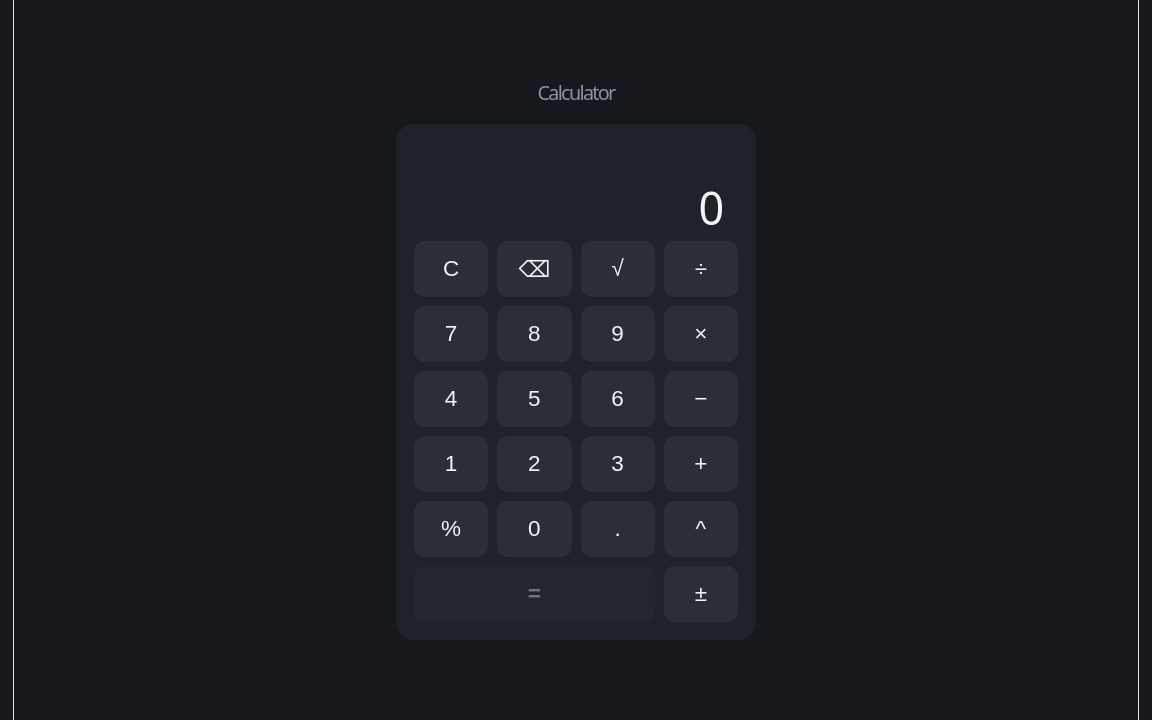
Test case: App › renders the API error message instead of crashing
Click the button "1": click(451, 464) [414,436,488,492]
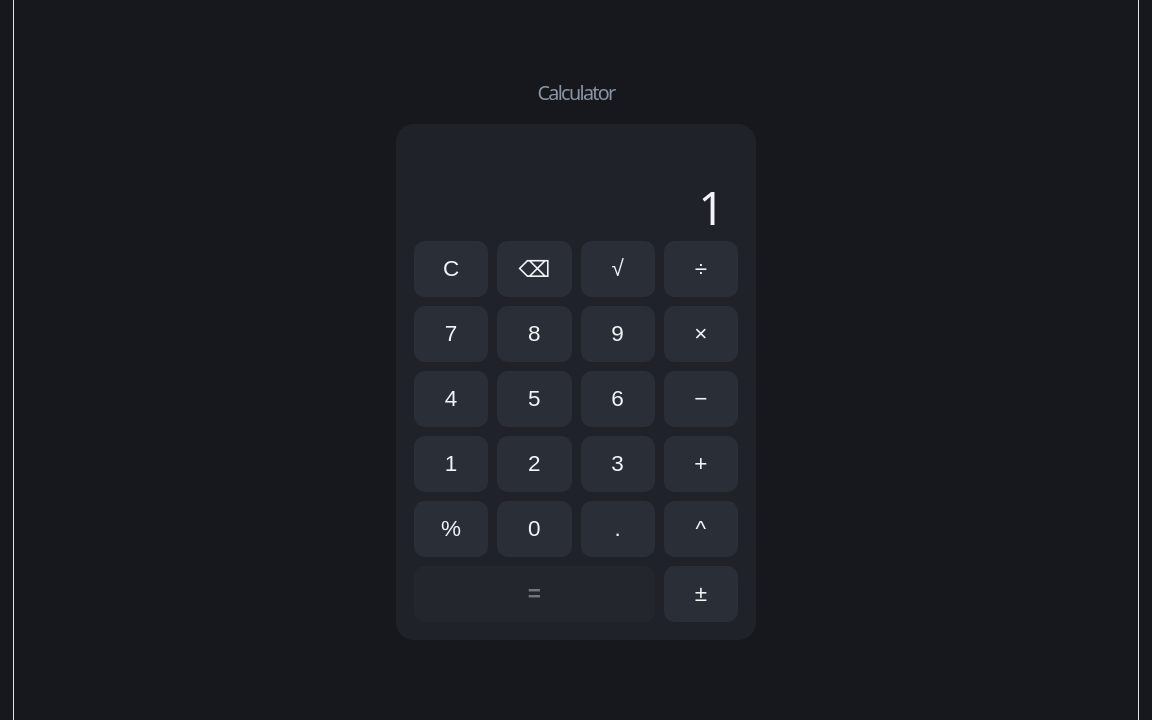
Click the button named "divide": click(701, 269) [664,241,738,297]
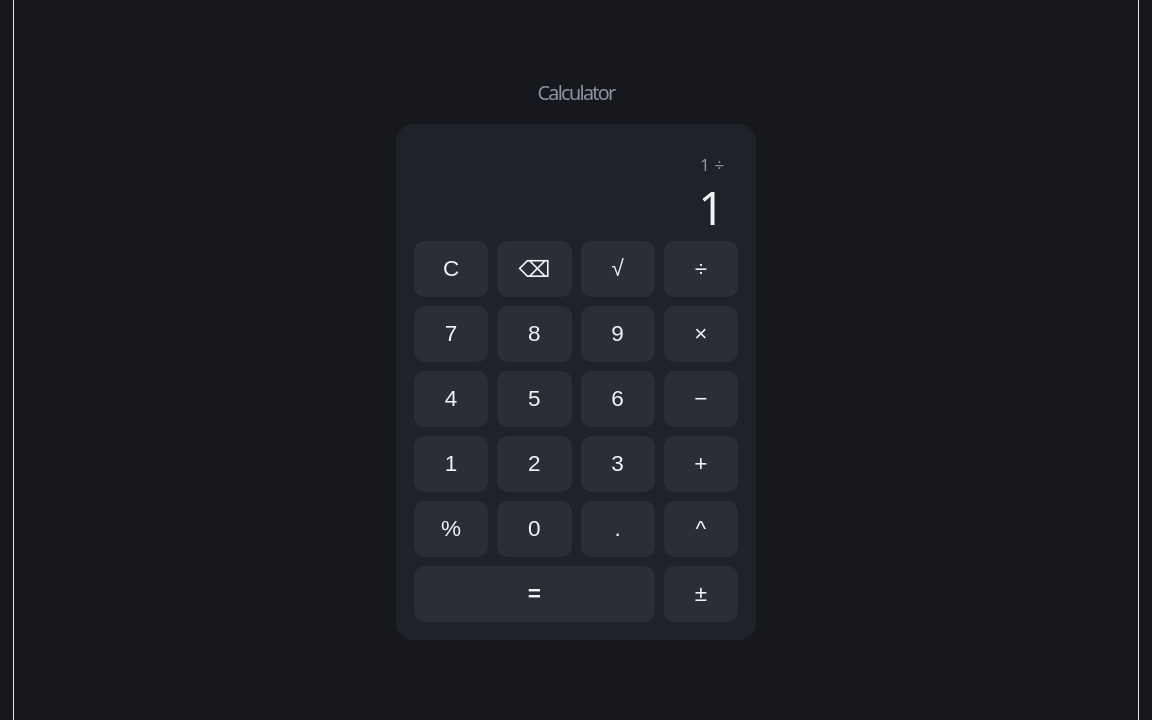
Click the button "0": click(534, 529) [497,501,572,557]
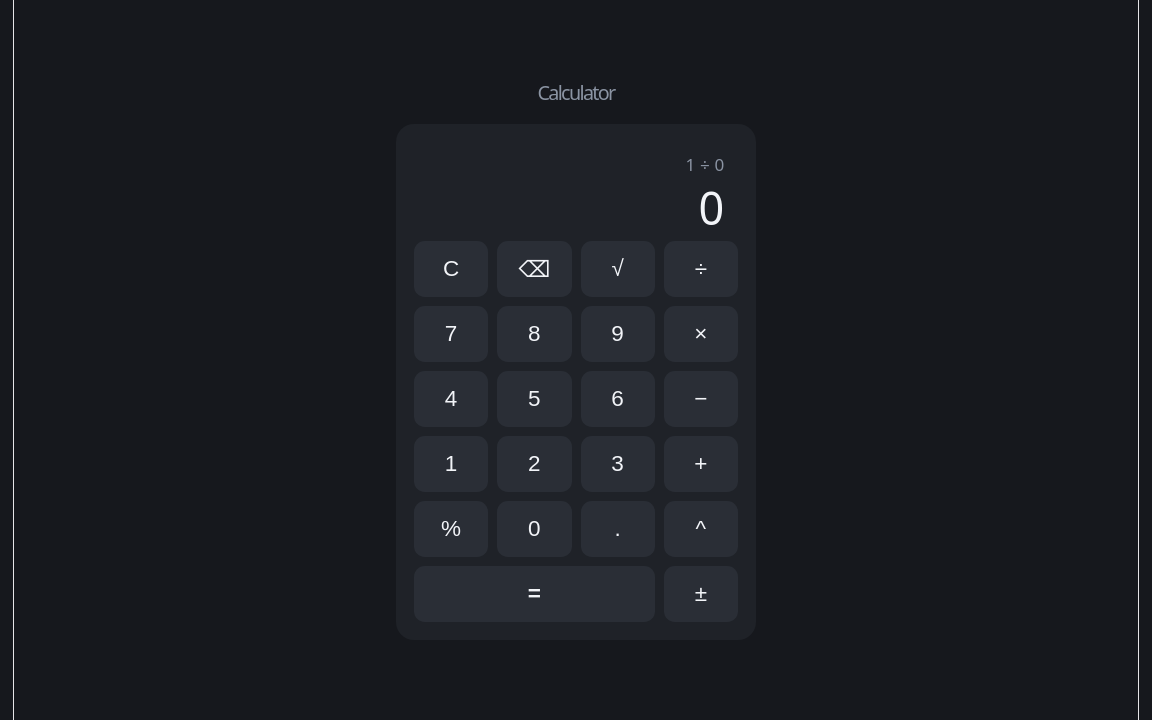
Click the button "=": click(534, 594) [414,566,655,622]
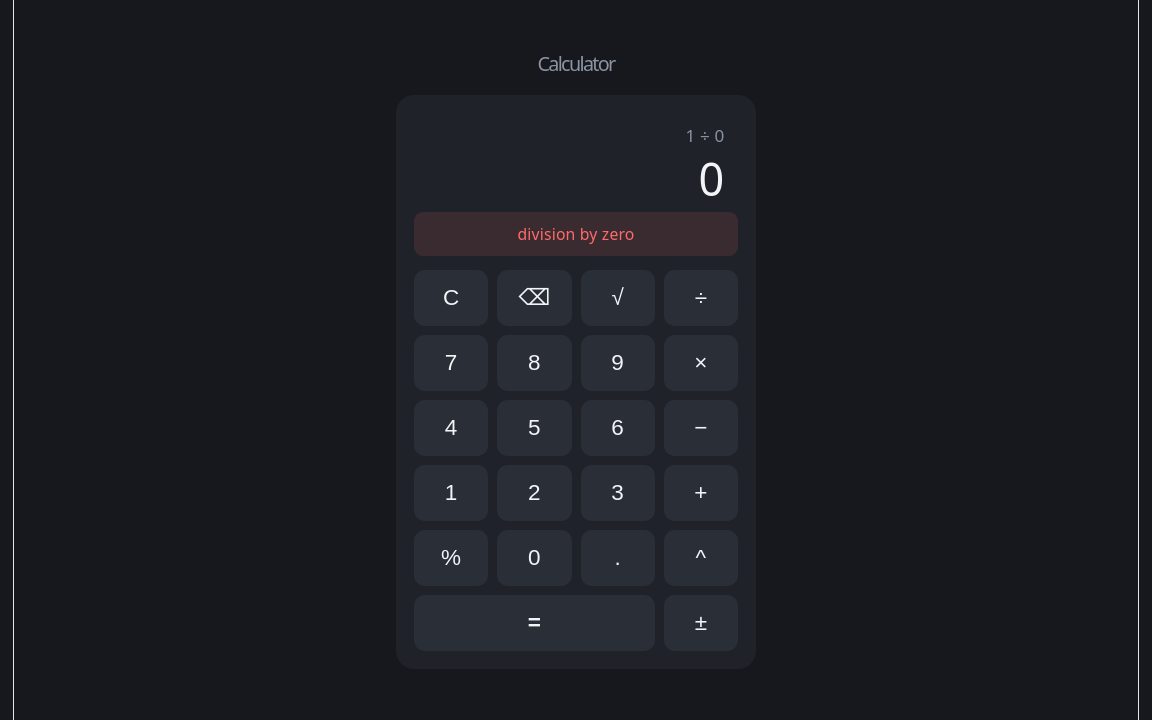
Expected: the message reads "division by zero", [517,223,635,245]
